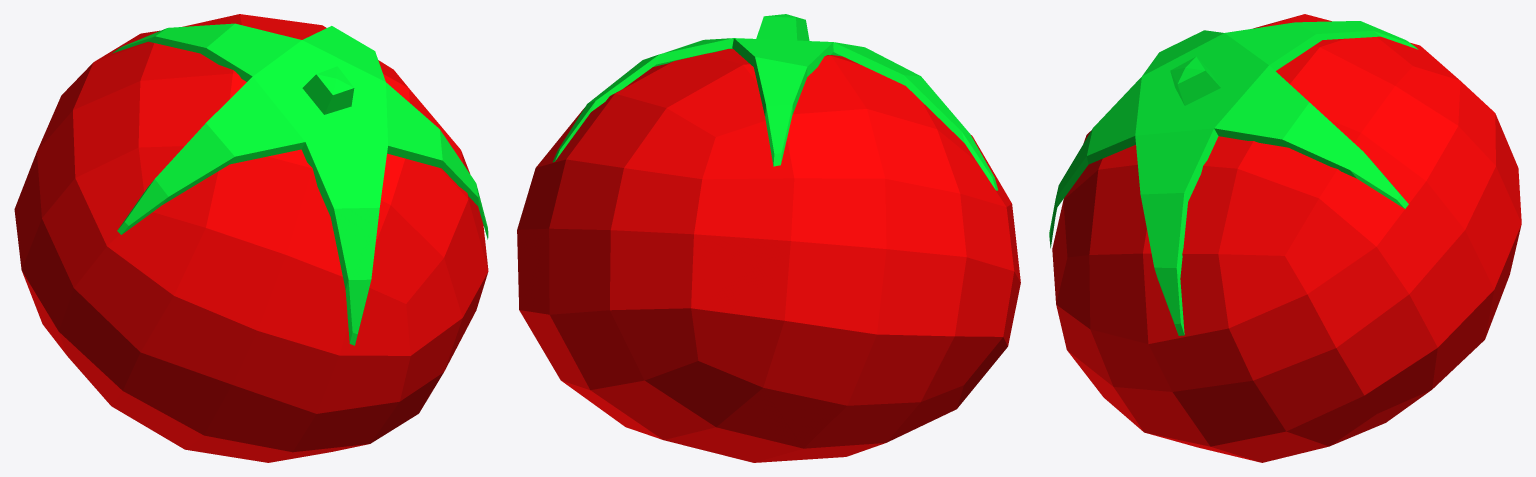
Rendered from Tomato 3.fbx.
3 renders of one model, left to right at view 1: azimuth 30°, elevation 25°; view 2: azimuth 150°, elevation 25°; view 3: azimuth 270°, elevation 25°, orthographic. The views are drawn at different scales.
Parts seen in each view (by area): view 1: Tomato 3.001; view 2: Tomato 3.001; view 3: Tomato 3.001.
Boxes of the visible parts, box(x1,y1,x2,y2) form: Tomato 3.001: box(14, 14, 488, 462); Tomato 3.001: box(517, 14, 1020, 462); Tomato 3.001: box(1049, 14, 1521, 462).
Bounding box in the file's own units: 5.66 × 5.09 × 5.58.
